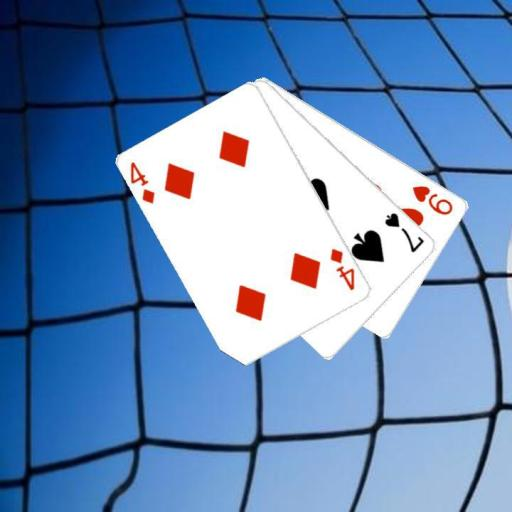4D: (327, 246, 357, 293), (127, 159, 157, 206)
7S: (382, 209, 427, 254)
9H: (410, 182, 455, 217)
